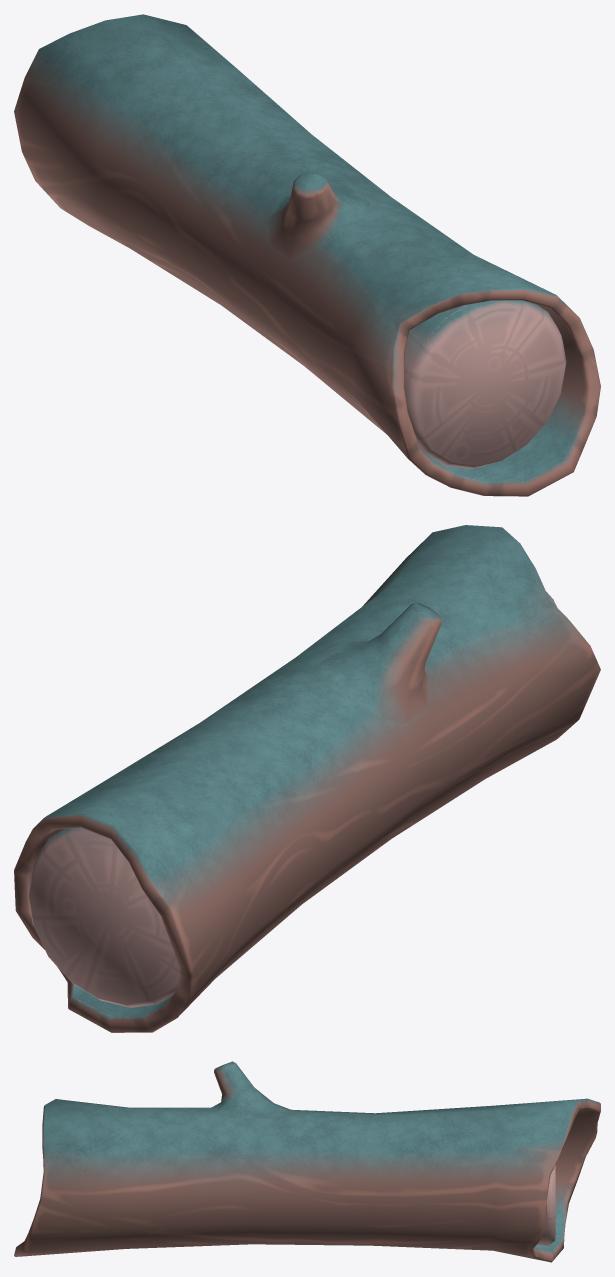
3 renders of one model, top to bottom at view 1: azimuth 30°, elevation 25°; view 2: azimuth 150°, elevation 25°; view 3: azimuth 270°, elevation 25°, orthographic. The views are drawn at different scales.
Visible parts, largest first — view 1: submesh_0; view 2: submesh_0; view 3: submesh_0.
Part boxes in pixels (x1,y1,x2,y2): submesh_0: (14, 14, 600, 496); submesh_0: (14, 525, 600, 1032); submesh_0: (14, 1061, 600, 1262).
Bounding box in the file's own units: 0.829 × 0.963 × 3.03.
1 material, 1 textured.
